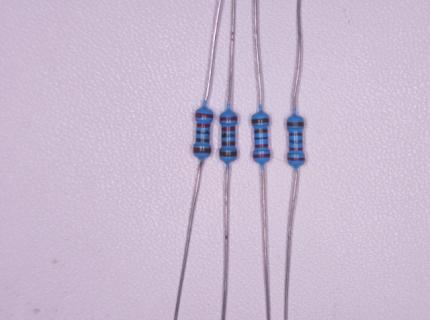Black band: (196, 130, 210, 135), (222, 133, 235, 138), (289, 139, 302, 144), (254, 136, 268, 140)
Brown band: (193, 147, 212, 154), (286, 121, 305, 127), (219, 151, 237, 157), (252, 118, 269, 124), (222, 140, 236, 146), (195, 138, 210, 143), (288, 132, 303, 137), (254, 129, 268, 134)
Red band: (195, 112, 213, 119), (253, 154, 271, 159), (287, 157, 305, 162), (196, 123, 211, 128), (222, 127, 236, 132), (255, 144, 269, 149), (220, 117, 237, 121), (289, 147, 303, 151)
